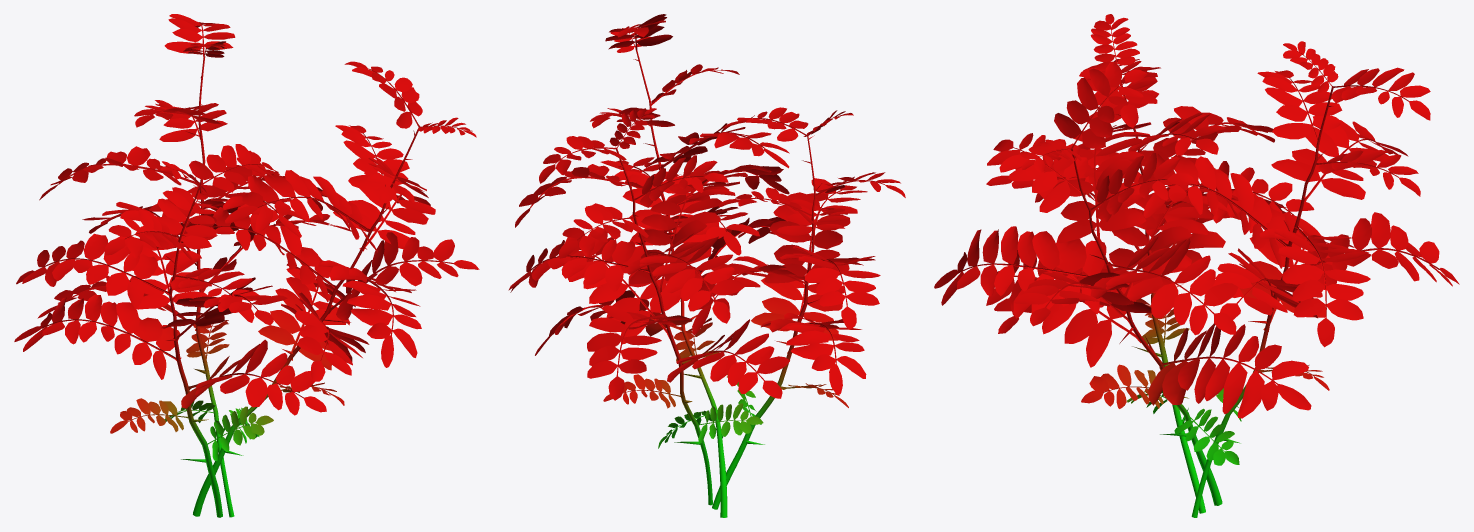
File: Black Locust_LOD0_Var14.fbx
The picture shows the model from 3 angles, left to right: view 1: azimuth 30°, elevation 25°; view 2: azimuth 150°, elevation 25°; view 3: azimuth 270°, elevation 25°; orthographic projection. The views are drawn at different scales.
Visible parts, largest first — view 1: _ftzm_Var14_LOD0; view 2: _ftzm_Var14_LOD0; view 3: _ftzm_Var14_LOD0.
Boxes of the visible parts, x1,y1,x2,y2 form: _ftzm_Var14_LOD0: (14, 14, 479, 517); _ftzm_Var14_LOD0: (508, 14, 905, 517); _ftzm_Var14_LOD0: (934, 14, 1459, 517).
Size of the model in its own units: 41.38 by 45.85 by 43.59.
